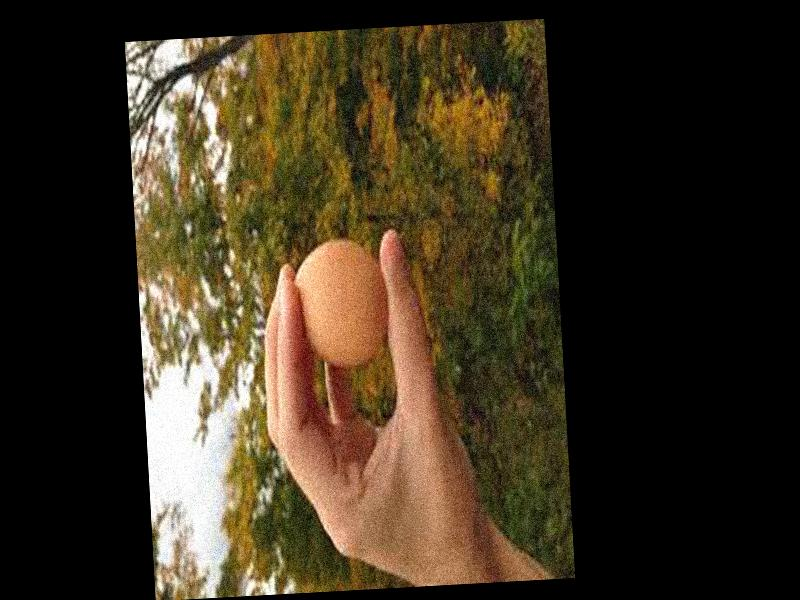Eggs: (290, 238, 391, 367)
